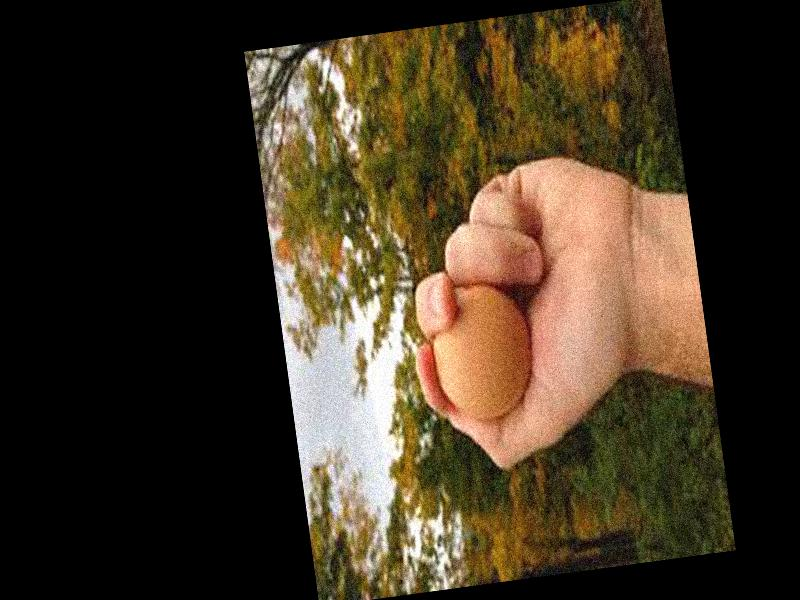Eggs: (425, 273, 538, 423)
